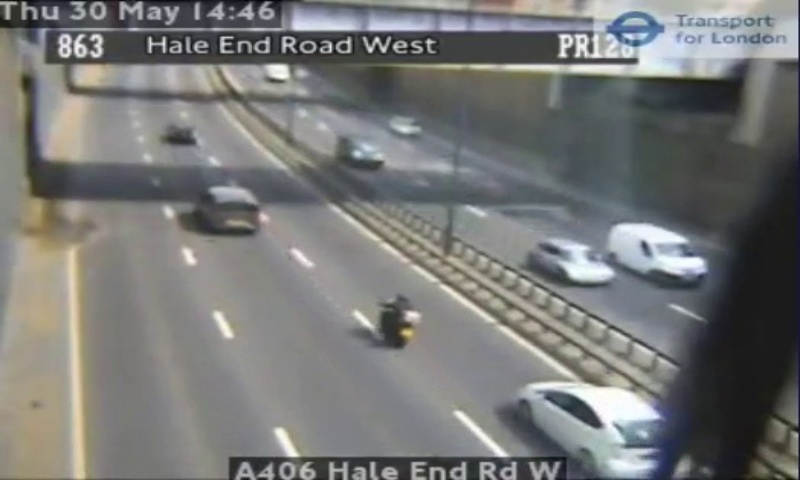car: (517, 379, 659, 472)
motorcycle: (377, 292, 419, 350)
van: (198, 186, 261, 233)
